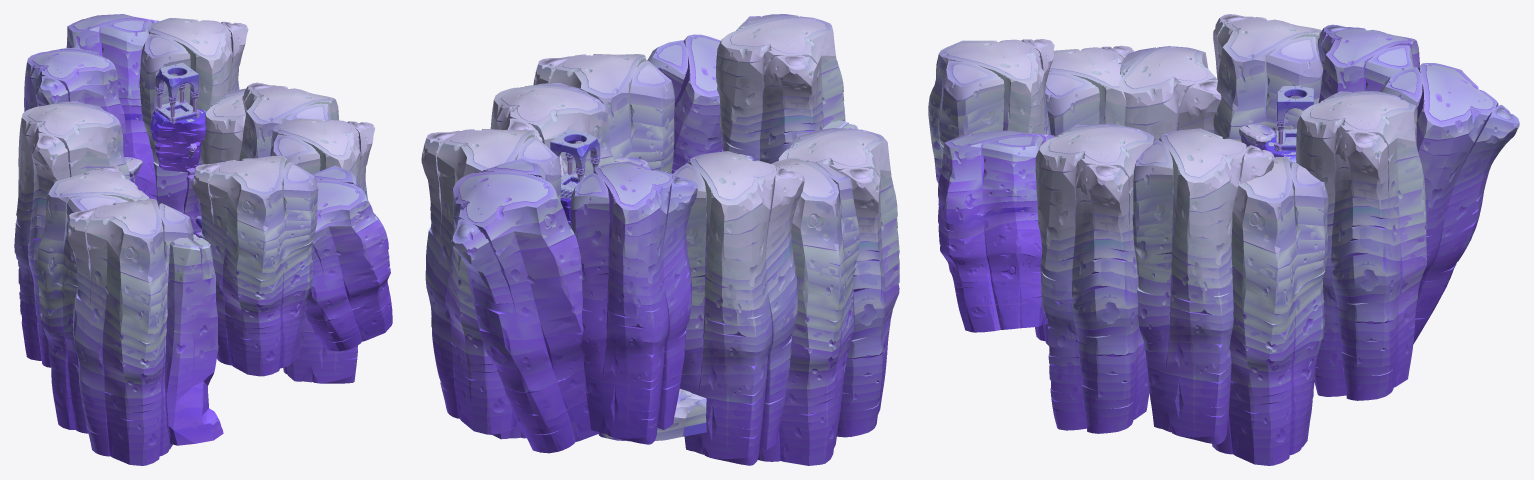
3 views of the same model, side by side, from view 1: azimuth 30°, elevation 25°; view 2: azimuth 150°, elevation 25°; view 3: azimuth 270°, elevation 25° (orthographic). The views are drawn at different scales.
Visible parts, largest first — view 1: TFD_Canyon_Cliff_01A_LOD0_6__1_, TFD_Canyon_Cliff_01A_LOD0_21__1_, TFD_Canyon_Cliff_01B_LOD0_9__1_, TFD_Canyon_Cliff_01A_LOD0_12__1_, TFD_Canyon_Cliff_03B_LOD0__1_, TFD_Canyon_Cliff_01A_LOD0_1__1_, TFD_Canyon_Cliff_01A_LOD0_10__1_, TFD_Canyon_Cliff_01A_LOD0_28__1_, TFD_Canyon_Cliff_01B_LOD0_8__1_, TFD_Canyon_Cliff_01B_LOD0_12__1_, TFD_Canyon_Cliff_01A_LOD0_17__1_, TFD_Rock_Large_15B_LOD0_1__1_ (+1 smaller); view 2: TFD_Canyon_Cliff_01A_LOD0_12__1_, TFD_Canyon_Cliff_01B_LOD0_12__1_, TFD_Canyon_Cliff_01B_LOD0_8__1_, TFD_Canyon_Cliff_01A_LOD0_1__1_, TFD_Canyon_Cliff_01A_LOD0_10__1_, TFD_Canyon_Cliff_01A_LOD0_21__1_, TFD_Canyon_Cliff_01A_LOD0_6__1_, TFD_Canyon_Cliff_01A_LOD0_28__1_, TFD_Canyon_Cliff_01B_LOD0_9__1_, TFD_Canyon_Cliff_01A_LOD0_17__1_, TFD_Rock_Slab_02A_LOD0_3__1_; view 3: TFD_Canyon_Cliff_01A_LOD0_10__1_, TFD_Canyon_Cliff_01A_LOD0_28__1_, TFD_Canyon_Cliff_01A_LOD0_17__1_, TFD_Canyon_Cliff_01A_LOD0_23__1_, TFD_Canyon_Cliff_01B_LOD0_9__1_, TFD_Canyon_Cliff_01B_LOD0_8__1_, TFD_Canyon_Cliff_01A_LOD0_21__1_, TFD_Canyon_Cliff_01A_LOD0_12__1_, TFD_Canyon_Cliff_01A_LOD0_1__1_, TFD_Canyon_Cliff_01A_LOD0_6__1_, TFD_Canyon_Cliff_01B_LOD0_12__1_, TFD_Rock_Large_08A_LOD0__2_.
Boxes of the visible parts, x1,y1,x2,y2 form: TFD_Canyon_Cliff_01A_LOD0_6__1_: [67, 198, 193, 465]; TFD_Canyon_Cliff_01A_LOD0_21__1_: [192, 155, 318, 376]; TFD_Canyon_Cliff_01B_LOD0_9__1_: [305, 165, 392, 351]; TFD_Canyon_Cliff_01A_LOD0_12__1_: [14, 101, 130, 367]; TFD_Canyon_Cliff_03B_LOD0__1_: [164, 237, 223, 445]; TFD_Canyon_Cliff_01A_LOD0_1__1_: [37, 165, 149, 433]; TFD_Canyon_Cliff_01A_LOD0_10__1_: [139, 18, 248, 237]; TFD_Canyon_Cliff_01A_LOD0_28__1_: [270, 118, 375, 383]; TFD_Canyon_Cliff_01B_LOD0_8__1_: [66, 14, 159, 205]; TFD_Canyon_Cliff_01B_LOD0_12__1_: [24, 47, 125, 150]; TFD_Canyon_Cliff_01A_LOD0_17__1_: [239, 82, 338, 160]; TFD_Rock_Large_15B_LOD0_1__1_: [150, 108, 206, 172]; TFD_Canyon_Cliff_01A_LOD0_12__1_: [672, 151, 804, 465]; TFD_Canyon_Cliff_01B_LOD0_12__1_: [570, 161, 698, 444]; TFD_Canyon_Cliff_01B_LOD0_8__1_: [451, 158, 598, 453]; TFD_Canyon_Cliff_01A_LOD0_1__1_: [757, 158, 859, 465]; TFD_Canyon_Cliff_01A_LOD0_10__1_: [421, 129, 561, 434]; TFD_Canyon_Cliff_01A_LOD0_21__1_: [716, 14, 845, 163]; TFD_Canyon_Cliff_01A_LOD0_6__1_: [778, 128, 899, 437]; TFD_Canyon_Cliff_01A_LOD0_28__1_: [533, 54, 674, 173]; TFD_Canyon_Cliff_01B_LOD0_9__1_: [647, 34, 722, 173]; TFD_Canyon_Cliff_01A_LOD0_17__1_: [490, 83, 615, 175]; TFD_Rock_Slab_02A_LOD0_3__1_: [598, 389, 706, 441]; TFD_Canyon_Cliff_01A_LOD0_10__1_: [1296, 91, 1426, 400]; TFD_Canyon_Cliff_01A_LOD0_28__1_: [1035, 123, 1155, 433]; TFD_Canyon_Cliff_01A_LOD0_17__1_: [1132, 128, 1274, 444]; TFD_Canyon_Cliff_01A_LOD0_23__1_: [1212, 157, 1328, 465]; TFD_Canyon_Cliff_01B_LOD0_9__1_: [938, 130, 1054, 332]; TFD_Canyon_Cliff_01B_LOD0_8__1_: [1380, 63, 1519, 343]; TFD_Canyon_Cliff_01A_LOD0_21__1_: [928, 39, 1054, 273]; TFD_Canyon_Cliff_01A_LOD0_12__1_: [1213, 14, 1323, 141]; TFD_Canyon_Cliff_01A_LOD0_1__1_: [1118, 46, 1221, 140]; TFD_Canyon_Cliff_01A_LOD0_6__1_: [1035, 45, 1133, 344]; TFD_Canyon_Cliff_01B_LOD0_12__1_: [1317, 24, 1419, 102]; TFD_Rock_Large_08A_LOD0__2_: [1239, 123, 1275, 150].
Bounding box in the file's own units: 110 × 101 × 159.
4 materials, 4 textured.
